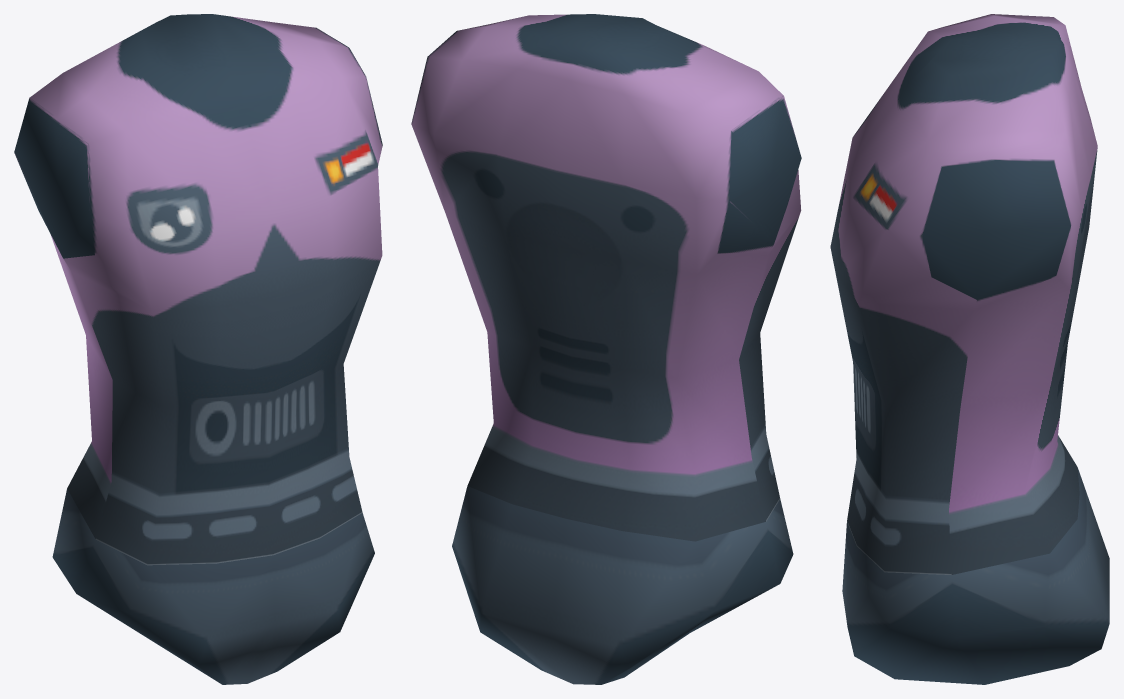
File: Floating_Torso_A.fbx
The picture shows the model from 3 angles, left to right: view 1: azimuth 30°, elevation 25°; view 2: azimuth 150°, elevation 25°; view 3: azimuth 270°, elevation 25°; orthographic projection. The views are drawn at different scales.
Visible parts, largest first — view 1: torso; view 2: torso; view 3: torso.
Part boxes in pixels (bbox=[...]): torso: bbox=[14, 14, 382, 684]; torso: bbox=[411, 14, 801, 684]; torso: bbox=[830, 14, 1109, 684].
Size of the model in its own units: 0.5687 by 1.12 by 0.4436.
